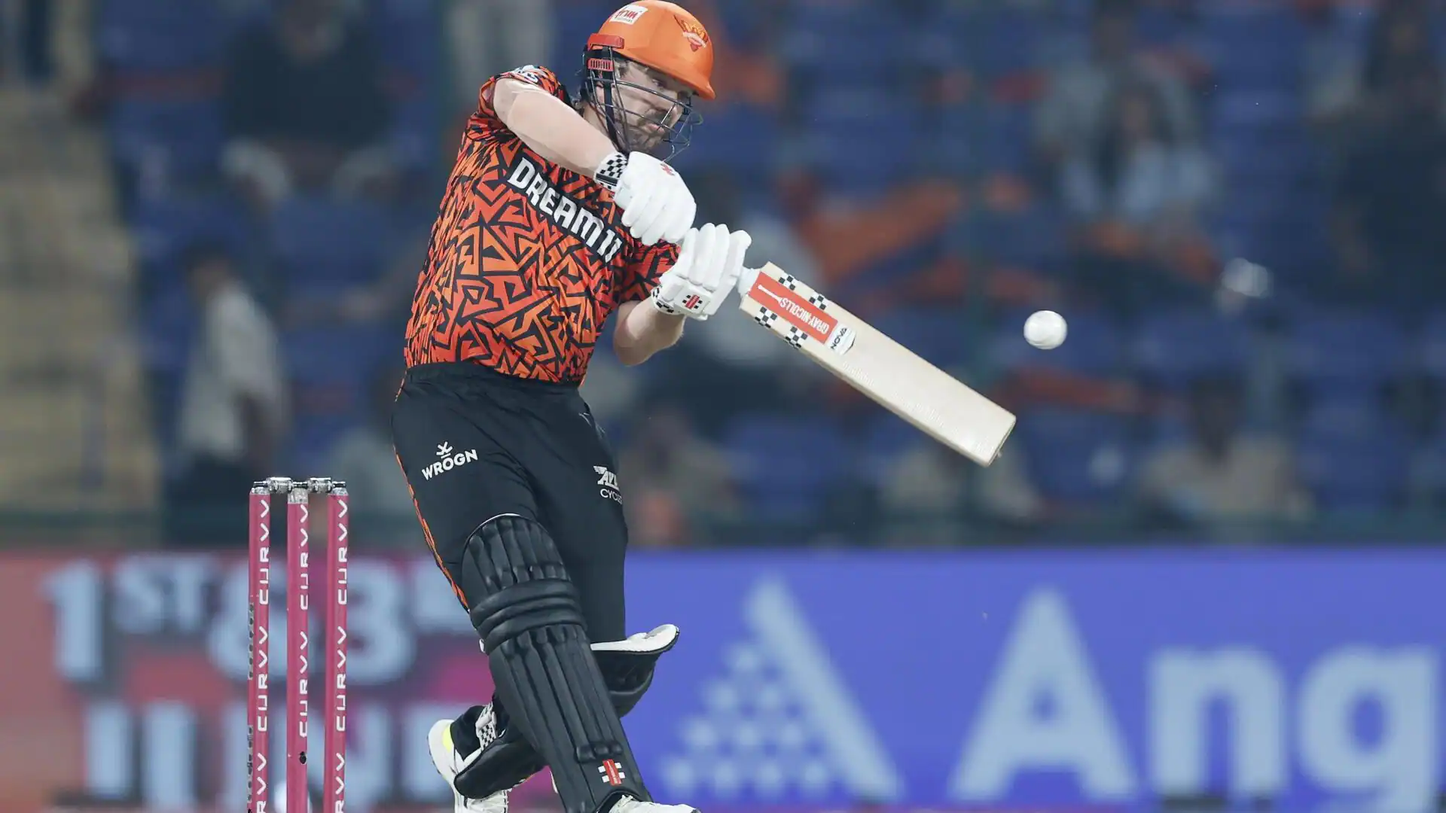Pullshot: (224, 0, 1206, 813)
